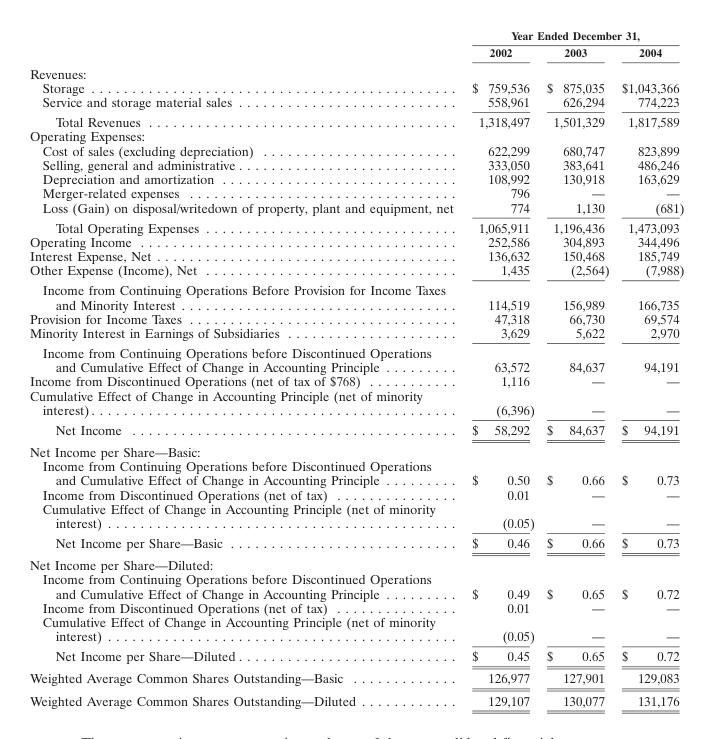table: (29, 28, 683, 707)
table column: (29, 28, 462, 707), (462, 28, 540, 707), (540, 28, 614, 707), (614, 28, 683, 707)
table column header: (29, 28, 683, 62)
table projected row header: (29, 62, 683, 80), (29, 440, 683, 458), (29, 553, 683, 571), (29, 128, 683, 143)
table row: (29, 279, 683, 311), (29, 342, 683, 373), (29, 388, 683, 419), (29, 501, 683, 532), (29, 614, 683, 645), (29, 458, 683, 487), (29, 571, 683, 600), (29, 666, 683, 689), (29, 419, 683, 440), (29, 532, 683, 553), (29, 645, 683, 666), (29, 43, 683, 62), (29, 62, 683, 80), (29, 440, 683, 458), (29, 553, 683, 571), (29, 689, 683, 707), (29, 94, 683, 111), (29, 111, 683, 128), (29, 200, 683, 217), (29, 217, 683, 234), (29, 262, 683, 279), (29, 325, 683, 342), (29, 28, 683, 43), (29, 128, 683, 143), (29, 185, 683, 200), (29, 373, 683, 388), (29, 80, 683, 94), (29, 143, 683, 157), (29, 157, 683, 171), (29, 171, 683, 185), (29, 234, 683, 248), (29, 248, 683, 262), (29, 311, 683, 325), (29, 487, 683, 501), (29, 600, 683, 614)
table spanning cell: (462, 28, 683, 43)
